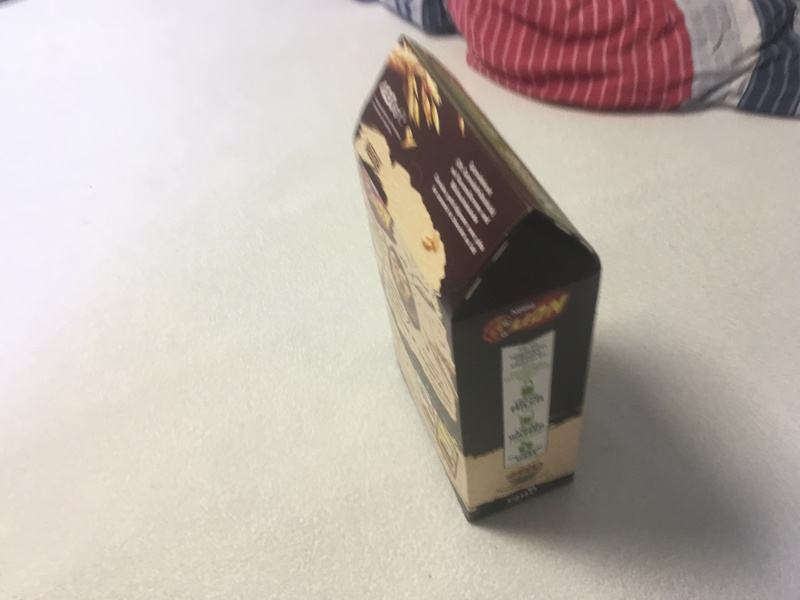cereals: (353, 35, 602, 520)
